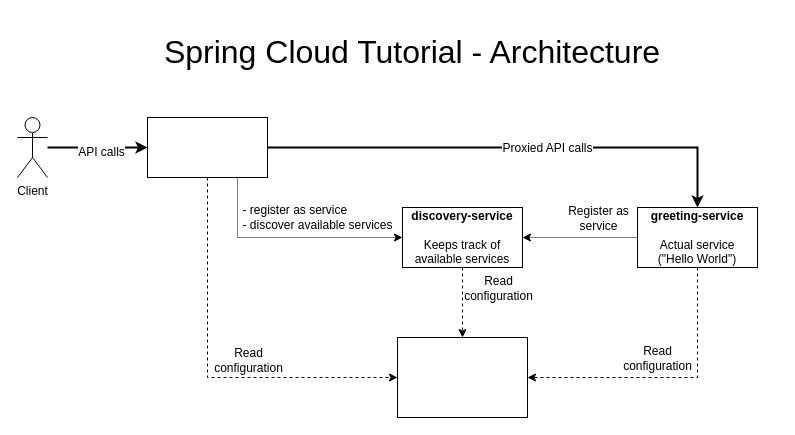
The diagram is 795 pixels wide and 435 high, and some of its shapes have lost their labels. The box of each missing label's shape, as (x1, y1, x2, y2) in pixels:
config-server Stores and manages configurations for all services: (396, 336, 528, 418)
gateway-service Client-facing proxy: (146, 116, 268, 178)
